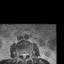CCS_normal: (23, 51, 25, 59)
LFS_normal: (27, 50, 29, 57)
LLS_normal: (25, 51, 27, 58)
RFS_normal: (19, 51, 21, 57)
RLS_normal: (21, 51, 23, 58)
